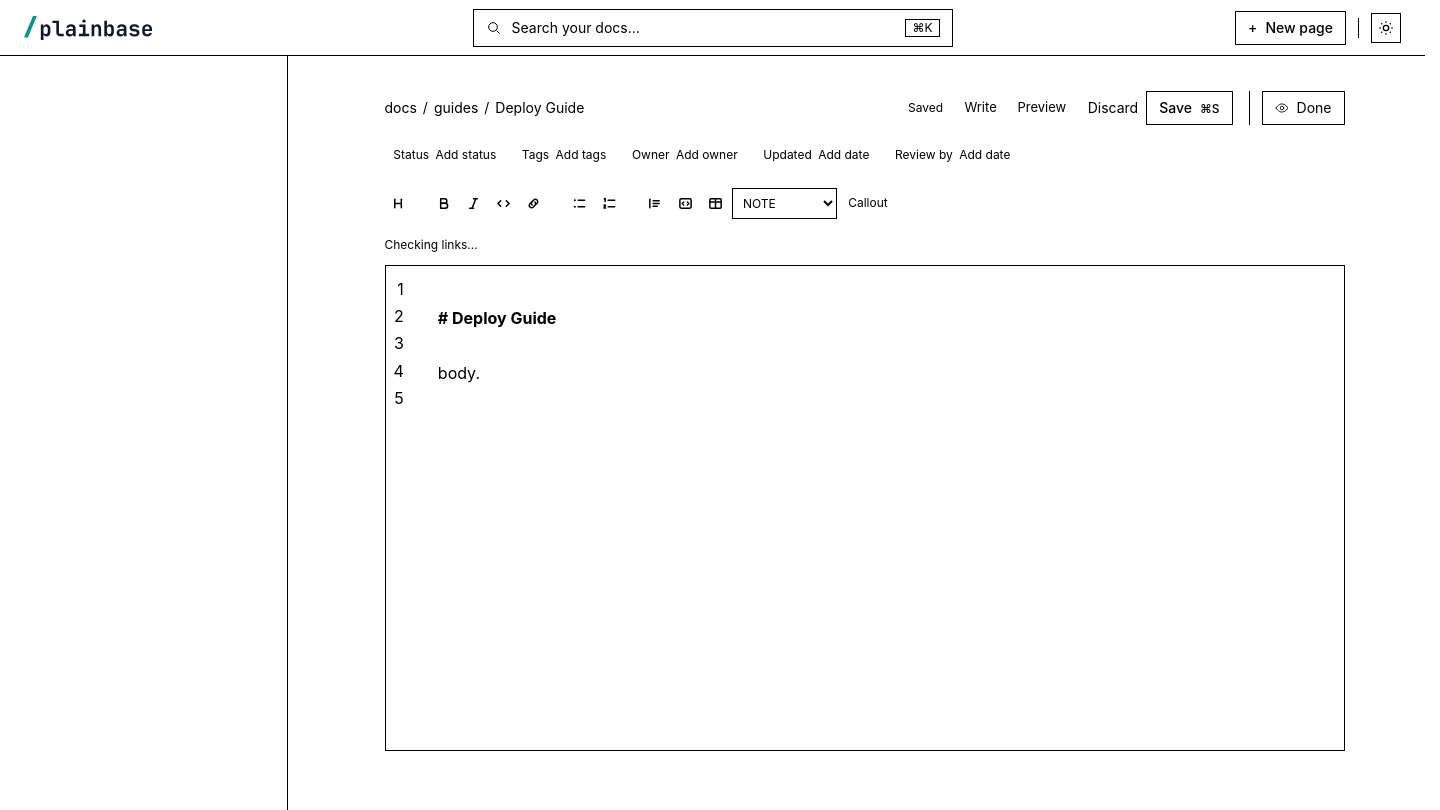
Test: W6 editor › a debounced edit POSTs /api/v1/preview and renders the returned html in the preview pane
This screenshot has width=1440, height=810.
Expected: the element that starts with "docs" is shown, [384,88,1344,751]
Note: Open the preview pane (off by default) so the gated fetch fires and the returned html renders.
Click the button "Preview".
click(1042, 108)  # box [1007,94,1077,123]
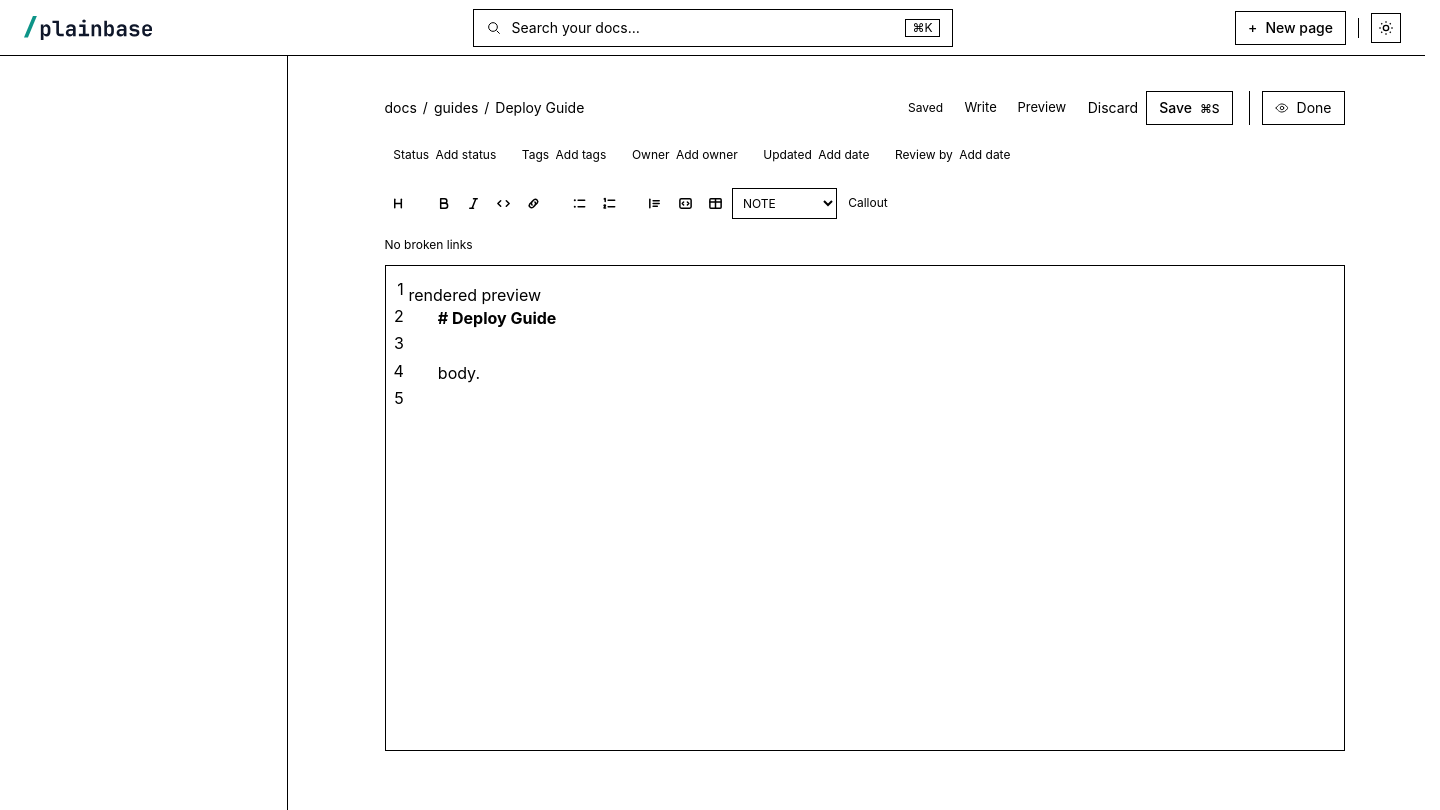
Result: the element showing "rendered preview" is shown at [408,285,541,305]
